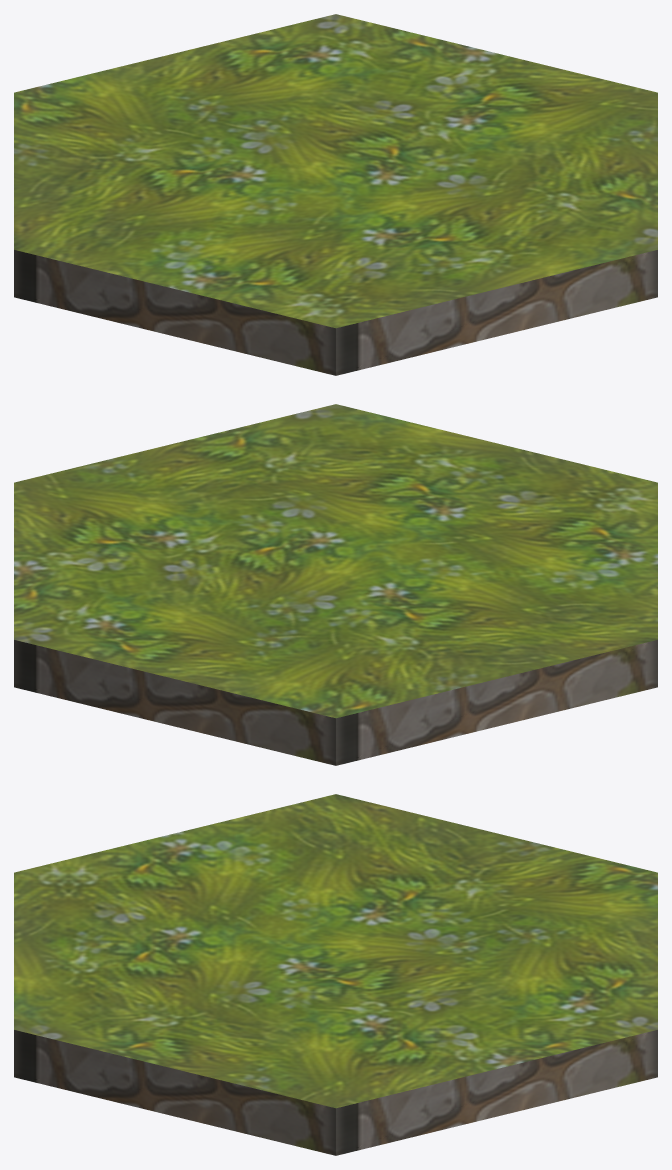
The model's file is hex_ground_grass.glb.
3 renders of one model, top to bottom at view 1: azimuth 30°, elevation 25°; view 2: azimuth 150°, elevation 25°; view 3: azimuth 270°, elevation 25°, orthographic.
Parts seen in each view (by area): view 1: Painted occupation surface, Canonical hex foundation; view 2: Painted occupation surface, Canonical hex foundation; view 3: Painted occupation surface, Canonical hex foundation.
Boxes of the visible parts, bbox=[...] form: Painted occupation surface: bbox=[14, 14, 657, 328]; Canonical hex foundation: bbox=[14, 250, 657, 375]; Painted occupation surface: bbox=[14, 404, 657, 718]; Canonical hex foundation: bbox=[14, 640, 657, 765]; Painted occupation surface: bbox=[14, 794, 657, 1108]; Canonical hex foundation: bbox=[14, 1030, 657, 1155].
Bounding box in the file's own units: 5.1 × 0.36 × 4.42.
Materials: 2 (2 with a texture image).
